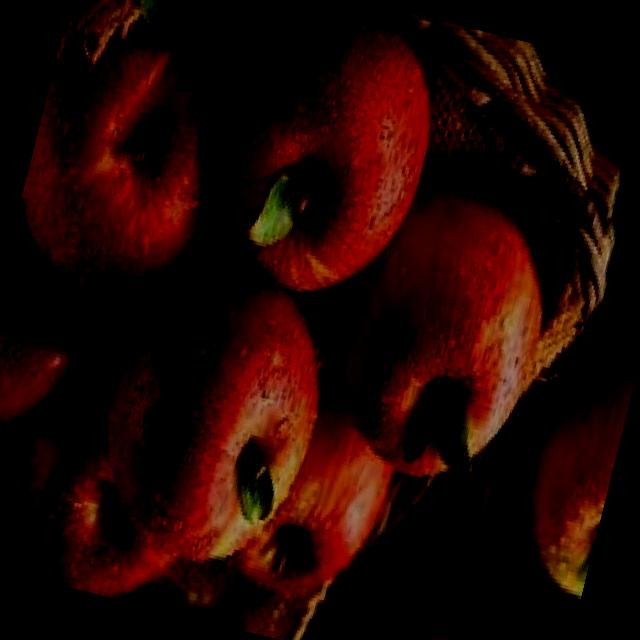Apple: (75, 250, 348, 588), (310, 157, 578, 501), (194, 0, 457, 317), (3, 1, 251, 323), (0, 350, 220, 611), (221, 382, 412, 620), (505, 316, 640, 602), (0, 227, 104, 454), (357, 599, 511, 640)
